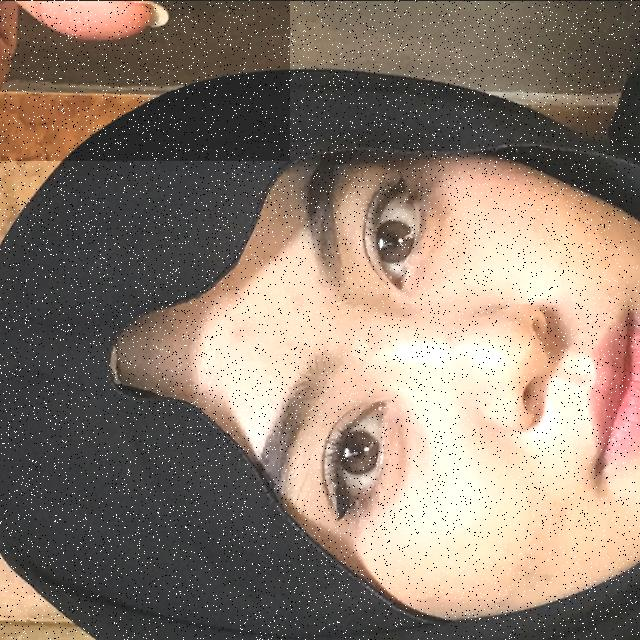sedih: (0, 0, 290, 160)
